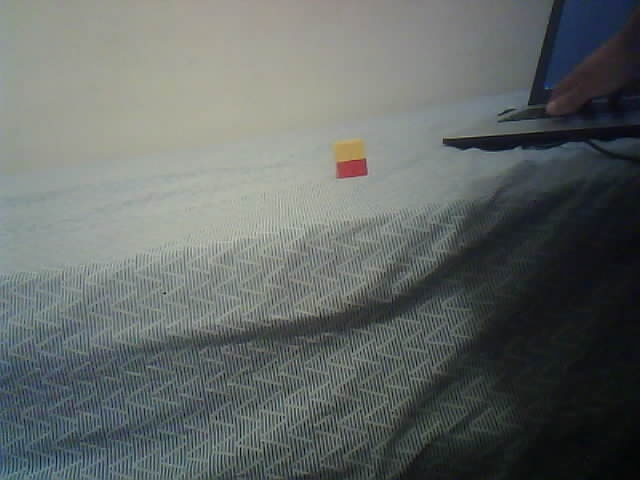lego: (332, 137, 369, 180)
